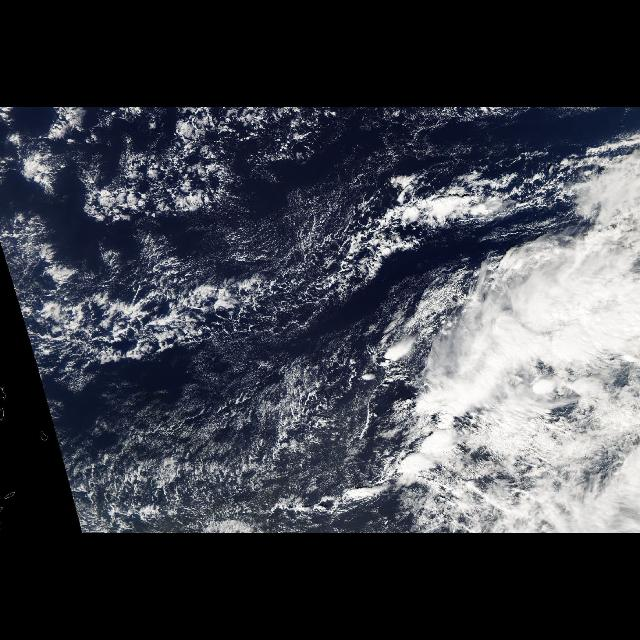Fish: (26, 182, 494, 360)
Gravel: (86, 381, 378, 533), (0, 107, 342, 167)
